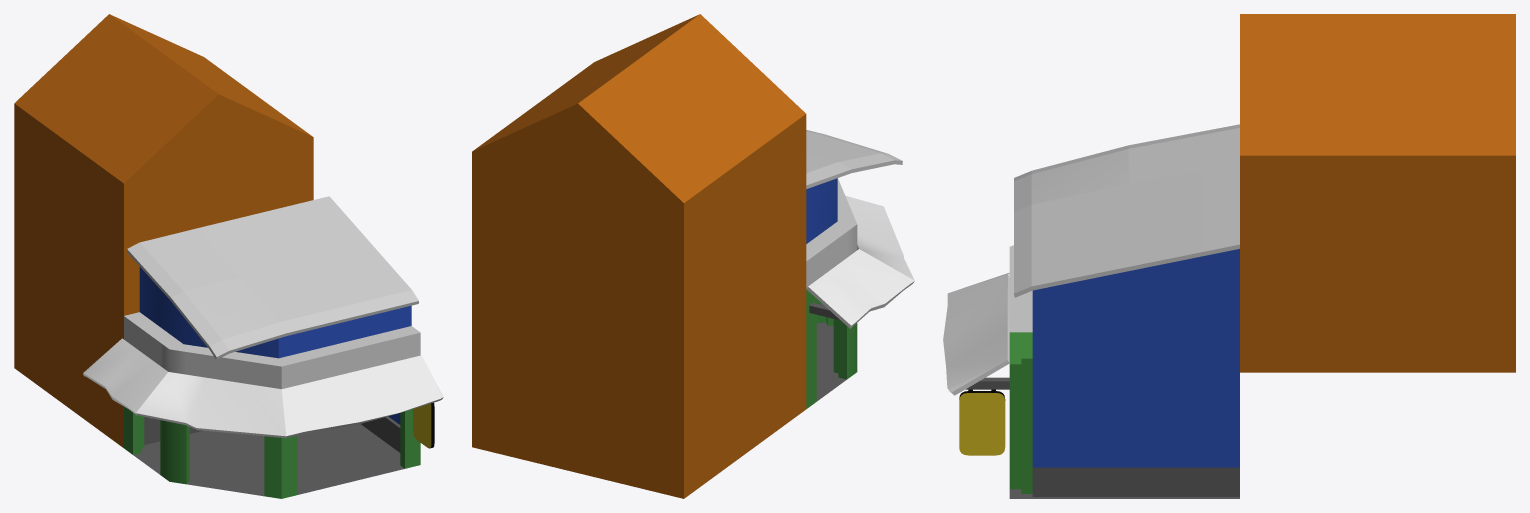
Rendered from SM_Ext_LongoShop.fbx.
3 renders of one model, left to right at view 1: azimuth 30°, elevation 25°; view 2: azimuth 150°, elevation 25°; view 3: azimuth 270°, elevation 25°, orthographic. The views are drawn at different scales.
Parts seen in each view (by area): view 1: Box055, Box070, Box063, Box060, Box056, Box082, Object006, Object004; view 2: Box055, Box063, Box060, Box070, Box056; view 3: Box055, Box070, Object006, Box063, Box060, Box082.
Boxes of the visible parts, left/top/right/bottom form: Box055: left=14, top=14, right=313, bottom=447; Box070: left=127, top=196, right=418, bottom=359; Box063: left=83, top=338, right=443, bottom=438; Box060: left=124, top=312, right=420, bottom=498; Box056: left=133, top=424, right=404, bottom=496; Box082: left=413, top=402, right=434, bottom=448; Object006: left=361, top=413, right=400, bottom=452; Object004: left=144, top=417, right=202, bottom=444; Box055: left=472, top=14, right=806, bottom=498; Box063: left=806, top=195, right=914, bottom=328; Box060: left=806, top=178, right=857, bottom=408; Box070: left=806, top=130, right=902, bottom=243; Box056: left=816, top=322, right=846, bottom=401; Box055: left=1240, top=14, right=1515, bottom=372; Box070: left=1014, top=124, right=1239, bottom=332; Object006: left=1032, top=332, right=1239, bottom=496; Box063: left=943, top=272, right=1009, bottom=395; Box060: left=1009, top=245, right=1032, bottom=493; Box082: left=959, top=389, right=1005, bottom=455.
Bounding box in the file's own units: 785 × 1000 × 1245.
